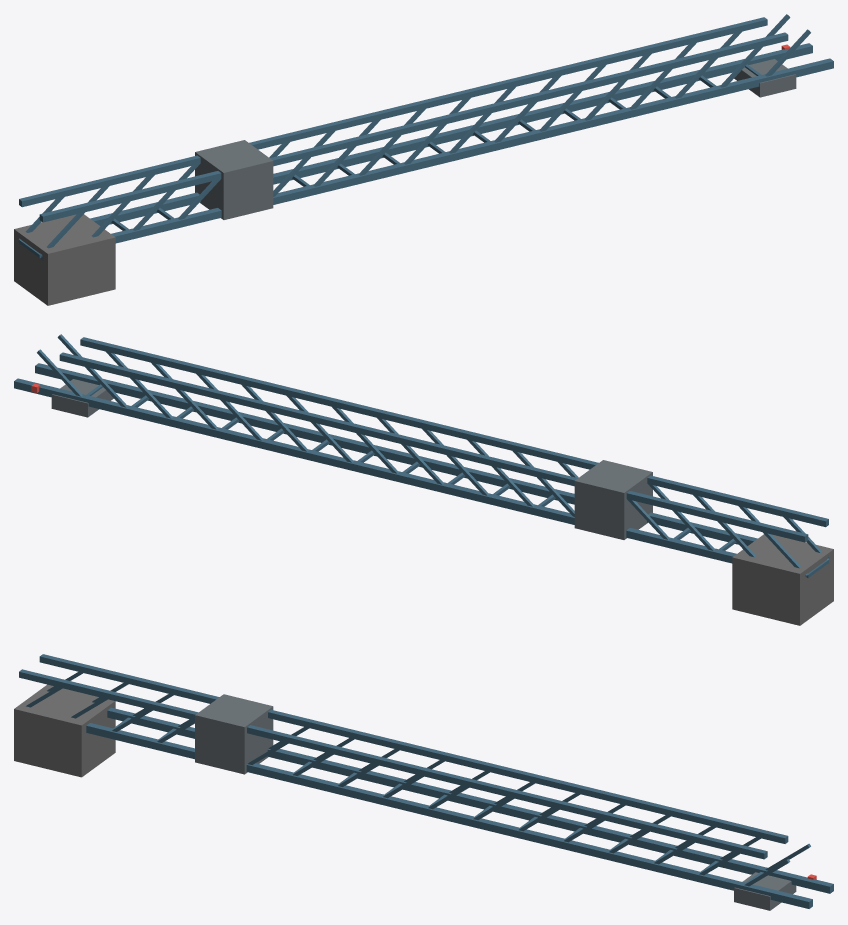
File: pad_crane_jib.fbx
3 renders of one model, top to bottom at view 1: azimuth 30°, elevation 25°; view 2: azimuth 150°, elevation 25°; view 3: azimuth 330°, elevation 25°, orthographic.
Parts seen in each view (by area): view 1: pad_crane_jib; view 2: pad_crane_jib; view 3: pad_crane_jib.
Boxes of the visible parts, x1,y1,x2,y2 form: pad_crane_jib: (14,14,833,305); pad_crane_jib: (14,334,833,625); pad_crane_jib: (14,654,833,910).
Size of the model in its own units: 35.07 by 3.7 by 2.6.
